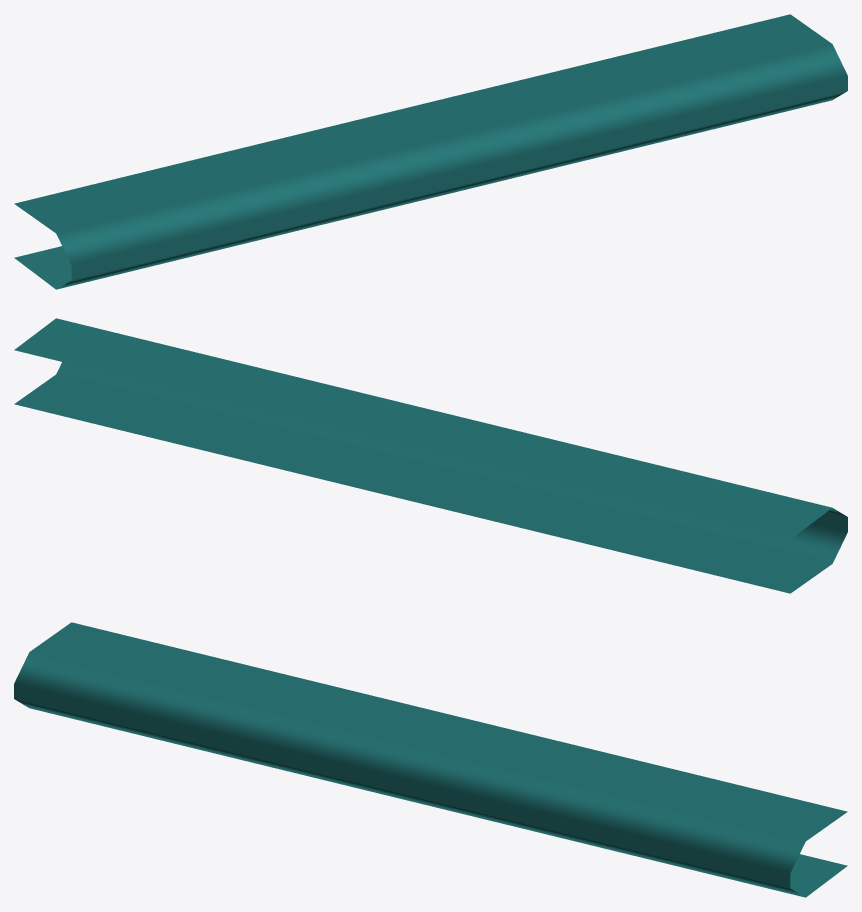
Rendered from SM_Window_Rim_Thin.fbx.
3 views of the same model, one above another, from view 1: azimuth 30°, elevation 25°; view 2: azimuth 150°, elevation 25°; view 3: azimuth 330°, elevation 25° (orthographic).
Visible parts, largest first — view 1: Object018; view 2: Object018; view 3: Object018.
Part boxes in pixels (left/top/right/bottom): Object018: left=14, top=14, right=847, bottom=289; Object018: left=14, top=318, right=847, bottom=593; Object018: left=14, top=622, right=847, bottom=897.
Bounding box in the file's own units: 78.91 × 5.45 × 10.13.
